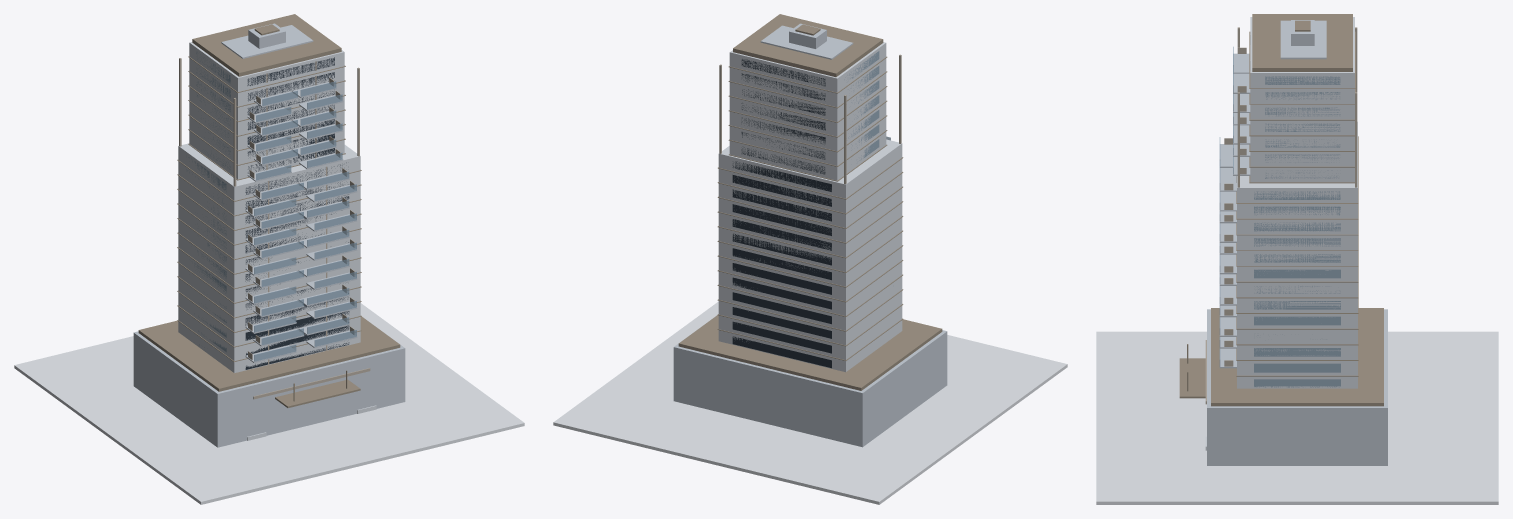
File: sponza.glb
3 views of the same model, side by side, from view 1: azimuth 30°, elevation 25°; view 2: azimuth 150°, elevation 25°; view 3: azimuth 270°, elevation 25° (orthographic). The views are drawn at different scales.
Parts seen in each view (by area): view 1: Site, TowerLower, PodiumBase, TowerUpper, PodiumCap, RoofParapet, RoofDeck, Canopy, WinBandFront_20, WinBandFront_19, MechanicalMain, WinBandFront_3; view 2: Site, TowerLower, TowerUpper, PodiumBase, PodiumCap, RoofParapet, RoofDeck, WinBandBack_7, WinBandBack_4, WinBandBack_3, WinBandBack_10, WinBandBack_1 (+10 smaller); view 3: Site, TowerLower, TowerUpper, PodiumBase, PodiumCap, RoofParapet, RoofDeck, Canopy, WinBandRight_2, WinBandRight_5, WinBandRight_8, WinBandRight_3 (+11 smaller).
Boxes of the visible parts, x1=… form: Site: x1=14, y1=303, x2=524, y2=504; TowerLower: x1=178, y1=143, x2=360, y2=372; PodiumBase: x1=133, y1=331, x2=405, y2=447; TowerUpper: x1=189, y1=42, x2=344, y2=179; PodiumCap: x1=138, y1=316, x2=400, y2=391; RoofParapet: x1=192, y1=14, x2=341, y2=76; RoofDeck: x1=221, y1=25, x2=313, y2=58; Canopy: x1=275, y1=379, x2=360, y2=407; WinBandFront_20: x1=247, y1=57, x2=334, y2=85; WinBandFront_19: x1=248, y1=72, x2=334, y2=101; MechanicalMain: x1=248, y1=23, x2=285, y2=48; WinBandFront_3: x1=245, y1=311, x2=349, y2=340; Site: x1=553, y1=301, x2=1067, y2=504; TowerLower: x1=718, y1=139, x2=902, y2=372; TowerUpper: x1=729, y1=42, x2=886, y2=180; PodiumBase: x1=673, y1=324, x2=947, y2=447; PodiumCap: x1=678, y1=315, x2=942, y2=390; RoofParapet: x1=733, y1=14, x2=883, y2=77; RoofDeck: x1=760, y1=25, x2=853, y2=59; WinBandBack_7: x1=732, y1=248, x2=831, y2=280; WinBandBack_4: x1=732, y1=292, x2=831, y2=324; WinBandBack_3: x1=732, y1=307, x2=831, y2=338; WinBandBack_10: x1=732, y1=204, x2=831, y2=235; WinBandBack_1: x1=732, y1=336, x2=831, y2=368; Site: x1=1096, y1=331, x2=1498, y2=504; TowerLower: x1=1237, y1=121, x2=1357, y2=388; TowerUpper: x1=1250, y1=17, x2=1354, y2=182; PodiumBase: x1=1207, y1=309, x2=1387, y2=465; PodiumCap: x1=1211, y1=308, x2=1383, y2=406; RoofParapet: x1=1252, y1=14, x2=1352, y2=71; RoofDeck: x1=1280, y1=20, x2=1326, y2=59; Canopy: x1=1179, y1=358, x2=1205, y2=398; WinBandRight_2: x1=1254, y1=363, x2=1340, y2=372; WinBandRight_5: x1=1254, y1=316, x2=1340, y2=325; WinBandRight_8: x1=1254, y1=269, x2=1340, y2=278; WinBandRight_3: x1=1254, y1=348, x2=1340, y2=356.
Size of the model in its own units: 20 by 21.62 by 20.
